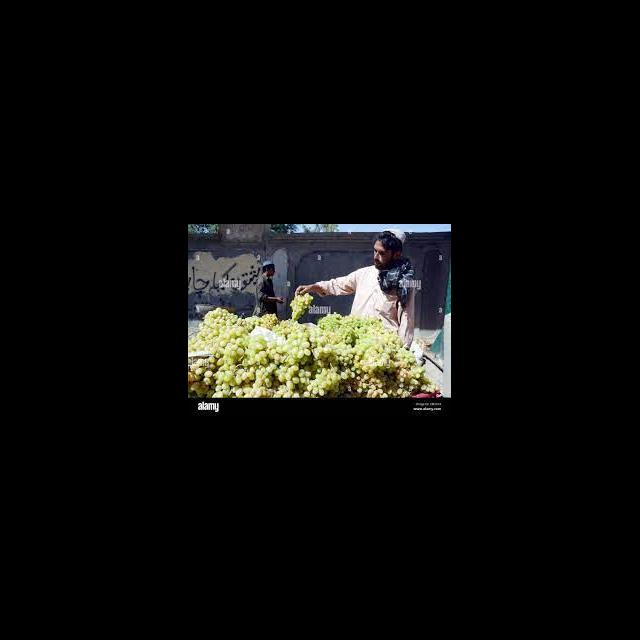grape: (188, 293, 440, 398)
